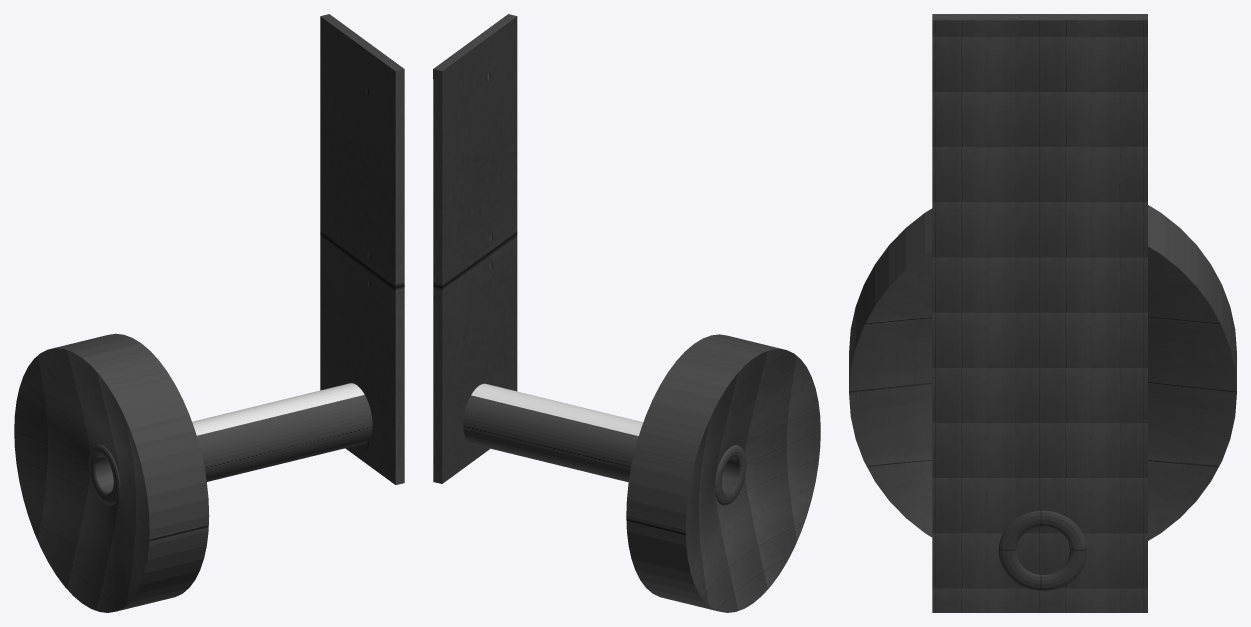
The model's file is Tunnel2.fbx.
3 views of the same model, side by side, from view 1: azimuth 30°, elevation 25°; view 2: azimuth 150°, elevation 25°; view 3: azimuth 270°, elevation 25° (orthographic). The views are drawn at different scales.
Visible parts, largest first — view 1: BasicTunnel3__1_, Cube.001; view 2: BasicTunnel3__1_, Cube.001; view 3: Cube.001, BasicTunnel3__1_.
Boxes of the visible parts, <box> form: BasicTunnel3__1_: <box>14,333,372,612</box>; Cube.001: <box>320,14,404,484</box>; BasicTunnel3__1_: <box>463,334,820,612</box>; Cube.001: <box>433,14,517,483</box>; Cube.001: <box>932,14,1147,612</box>; BasicTunnel3__1_: <box>849,205,1236,590</box>.
Bounding box in the file's own units: 2213 × 3647 × 1815.
